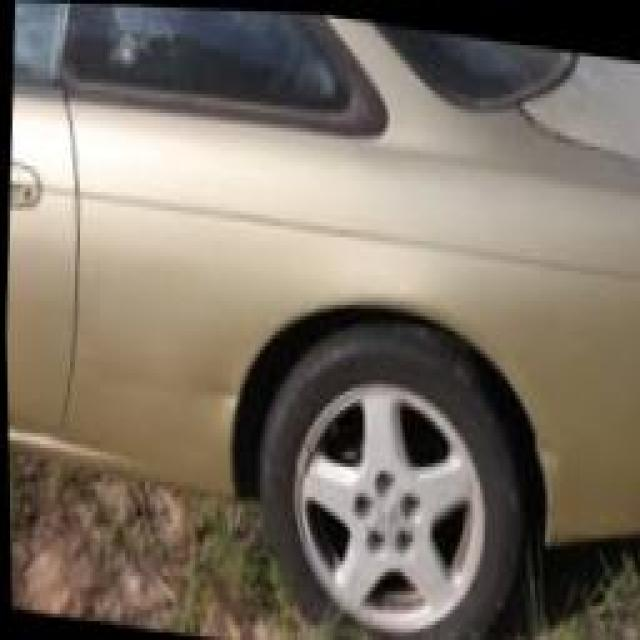Dickey: (525, 47, 640, 144)
Fender: (55, 79, 376, 498), (372, 296, 627, 535)
